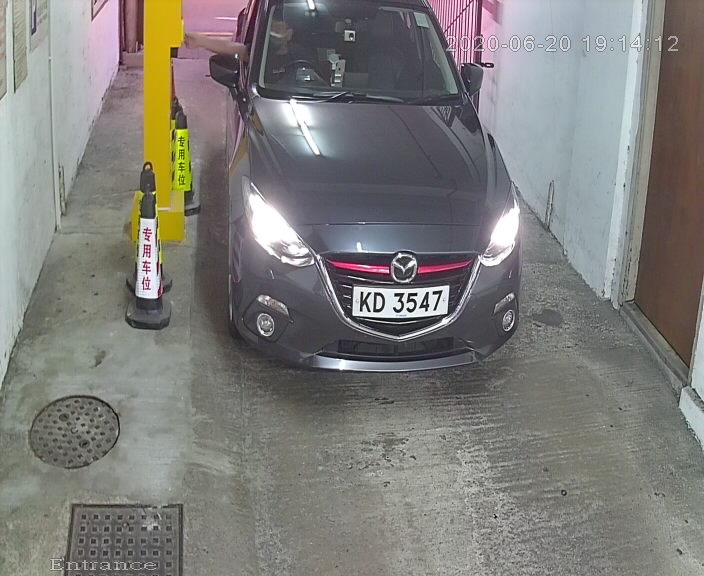privatecar: (188, 1, 547, 413)
